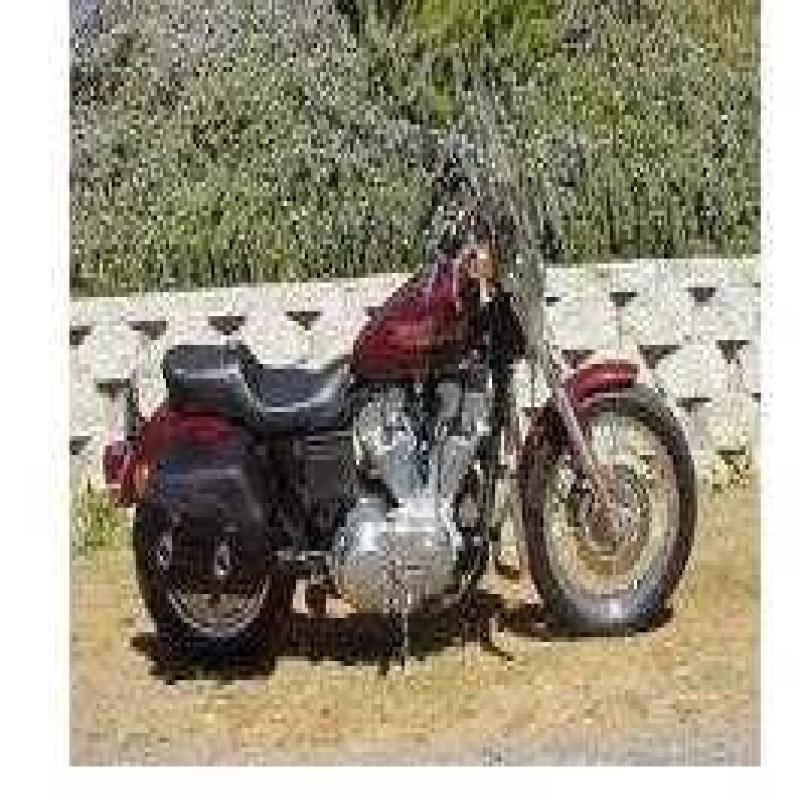bike: (111, 182, 685, 657)
